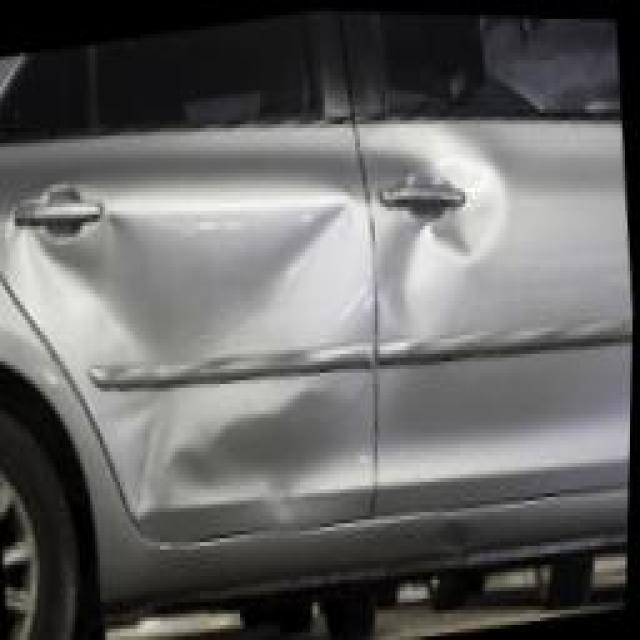Door: (20, 102, 386, 559), (402, 117, 573, 279)
